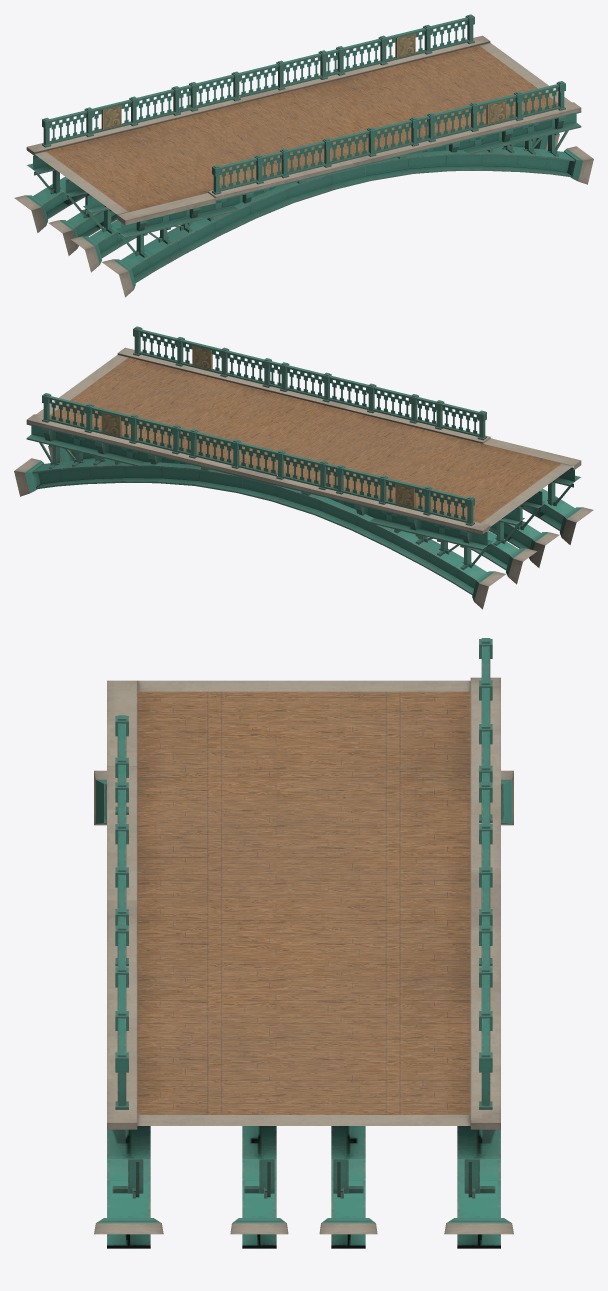
The model's file is t1_b_steel_bridge_c.glb.
3 renders of one model, top to bottom at view 1: azimuth 30°, elevation 25°; view 2: azimuth 150°, elevation 25°; view 3: azimuth 270°, elevation 25°, orthographic. The views are drawn at different scales.
Visible parts, largest first — view 1: um_t1_b_steel_bridge_c_model_t1_b_steel_bridge_c_modelShape; view 2: um_t1_b_steel_bridge_c_model_t1_b_steel_bridge_c_modelShape; view 3: um_t1_b_steel_bridge_c_model_t1_b_steel_bridge_c_modelShape.
Part boxes in pixels (x1,y1,x2,y2): um_t1_b_steel_bridge_c_model_t1_b_steel_bridge_c_modelShape: (14, 14, 593, 297); um_t1_b_steel_bridge_c_model_t1_b_steel_bridge_c_modelShape: (14, 326, 593, 609); um_t1_b_steel_bridge_c_model_t1_b_steel_bridge_c_modelShape: (94, 638, 513, 1248).
Size of the model in its own units: 22.46 by 4.62 by 8.6.
Materials: 2 (2 with a texture image).
